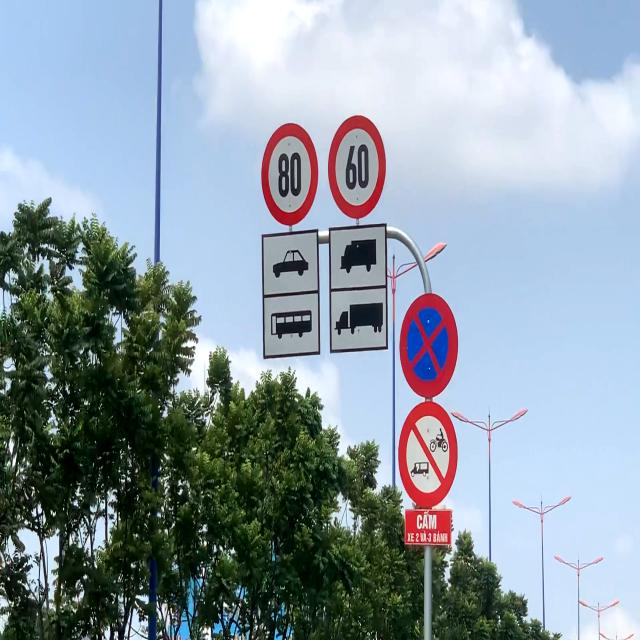P.127: (259, 117, 318, 228), (326, 115, 387, 217)
P.130: (398, 290, 460, 400)
